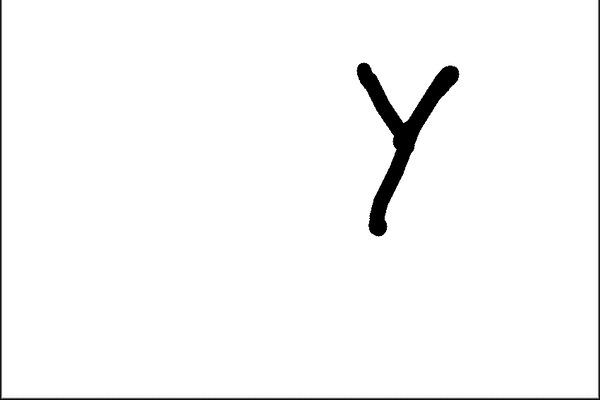Y: (341, 49, 493, 254)
